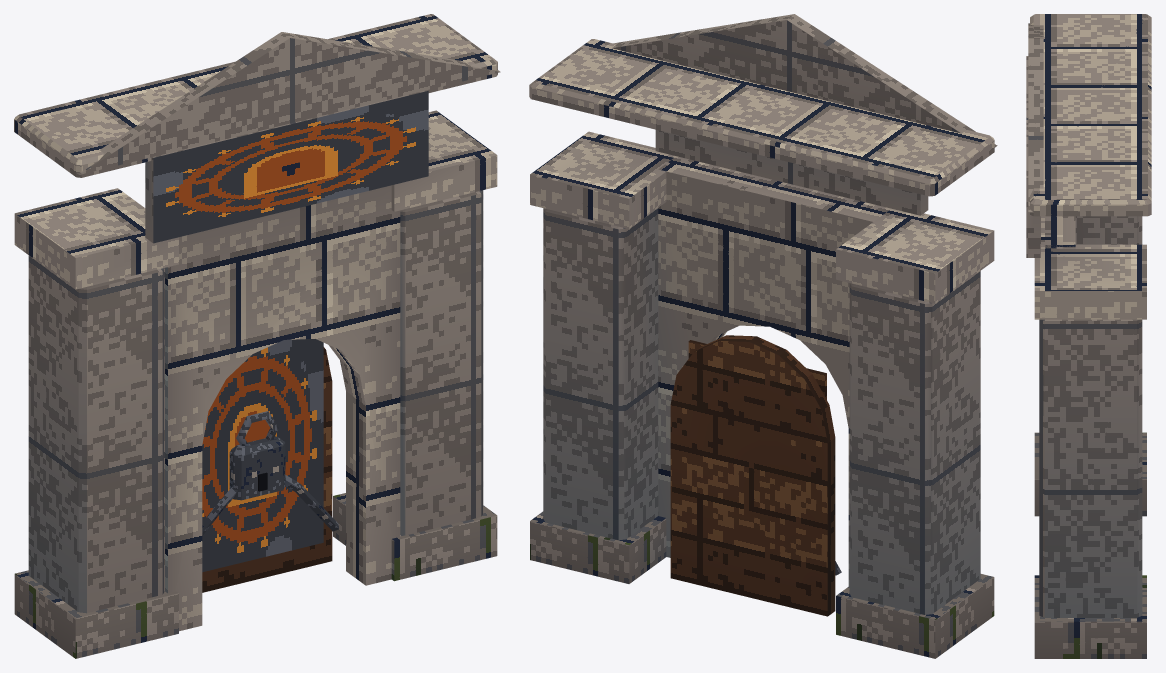
File: tmpl.boss_door.glb
The picture shows the model from 3 angles, left to right: view 1: azimuth 30°, elevation 25°; view 2: azimuth 150°, elevation 25°; view 3: azimuth 270°, elevation 25°; orthographic projection. The views are drawn at different scales.
Parts seen in each view (by area): view 1: kit_surround, kit_lintel, kit_sigil, kit_lock, kit_leaf; view 2: kit_surround, kit_lintel, kit_leaf; view 3: kit_surround, kit_lintel.
Boxes of the visible parts, x1,y1,x2,y2 form: kit_surround: (14, 110, 497, 658); kit_lintel: (14, 14, 500, 243); kit_sigil: (202, 339, 323, 572); kit_lock: (202, 411, 338, 535); kit_leaf: (202, 347, 332, 592); kit_surround: (530, 131, 994, 658); kit_lintel: (529, 14, 997, 215); kit_leaf: (670, 335, 835, 616); kit_surround: (1034, 216, 1146, 658); kit_lintel: (1026, 14, 1151, 257).
Bounding box in the file's own units: 4.9 × 6.35 × 1.37.
7 materials, 7 textured.
